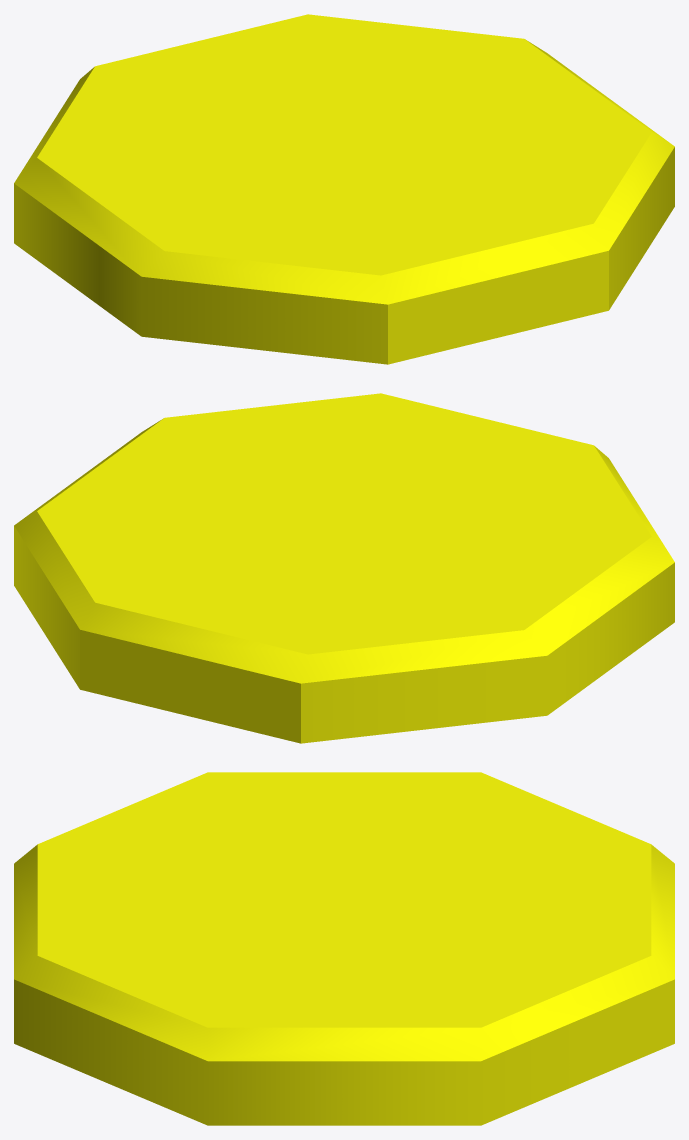
Rendered from kaykit-roofmodule-base.glb.
3 views of the same model, one above another, from view 1: azimuth 30°, elevation 25°; view 2: azimuth 150°, elevation 25°; view 3: azimuth 270°, elevation 25° (orthographic). The views are drawn at different scales.
Visible parts, largest first — view 1: roofmodule_base; view 2: roofmodule_base; view 3: roofmodule_base.
Part boxes in pixels (left/top/right/bottom): roofmodule_base: left=14, top=14, right=674, bottom=364; roofmodule_base: left=14, top=393, right=674, bottom=743; roofmodule_base: left=14, top=772, right=674, bottom=1125.
Size of the model in its own units: 1.4 by 0.2 by 1.4.
